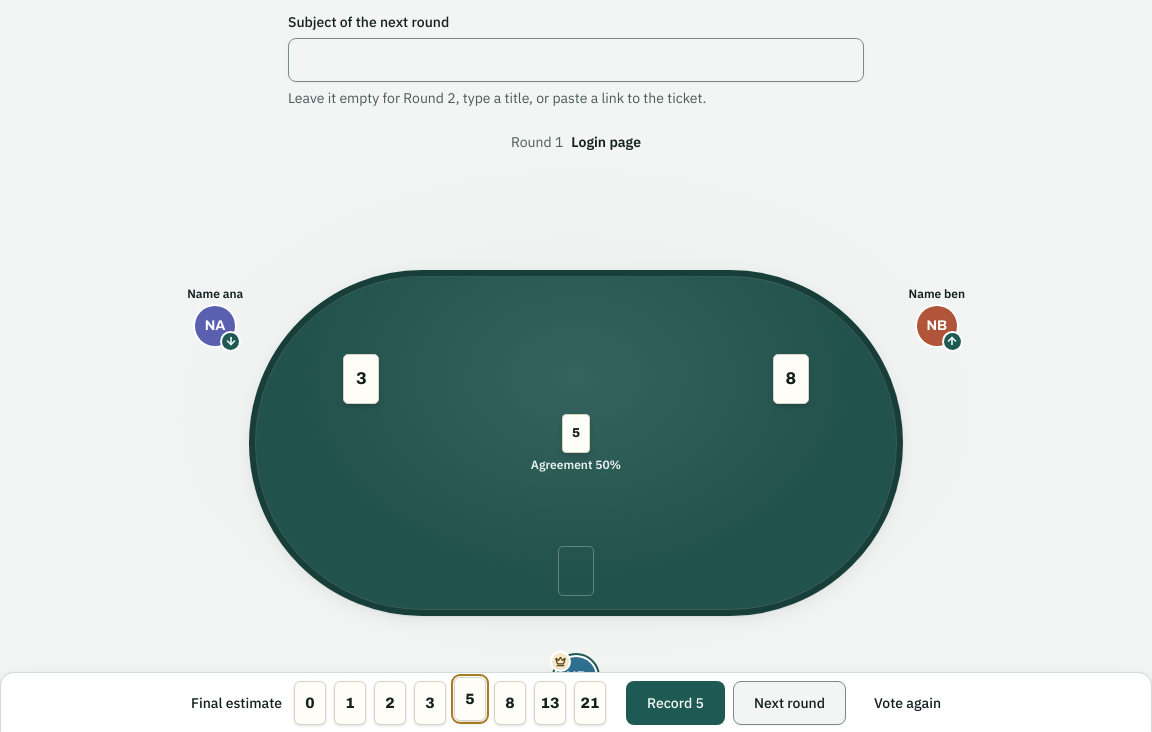
the final estimate after a change (#29) › keeps the recorded final, says the votes moved and preselects the new suggestion
Click the button "Record 5" at (675, 703), box [626,681,725,725]
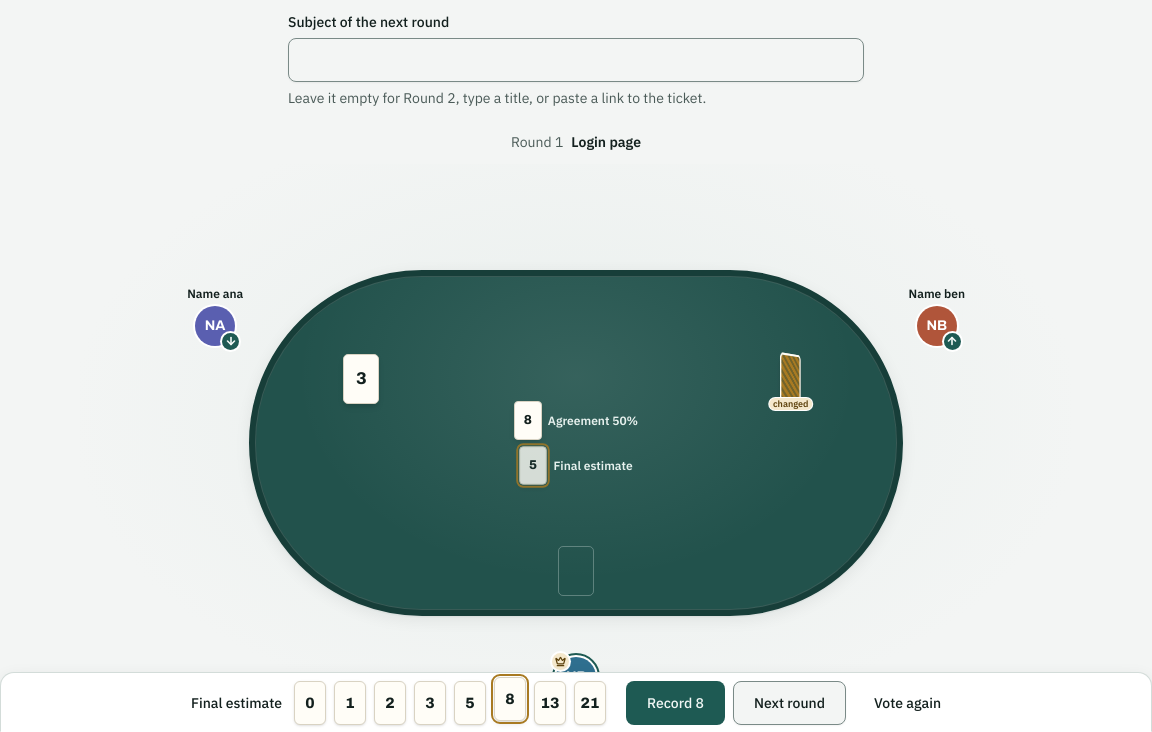
Now the button "Record 8" is shown
Click the button "Record 8" at (675, 703), box [626,681,725,725]
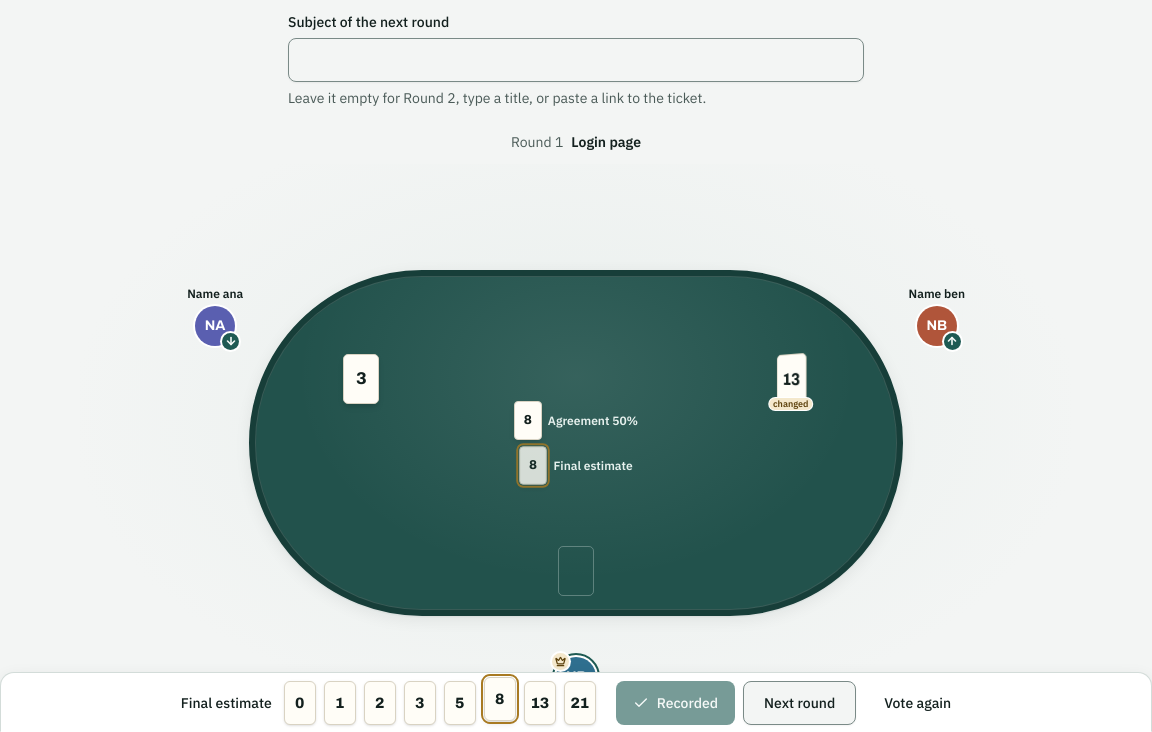
Now the button "Recorded" is shown, box [616,681,735,725]
